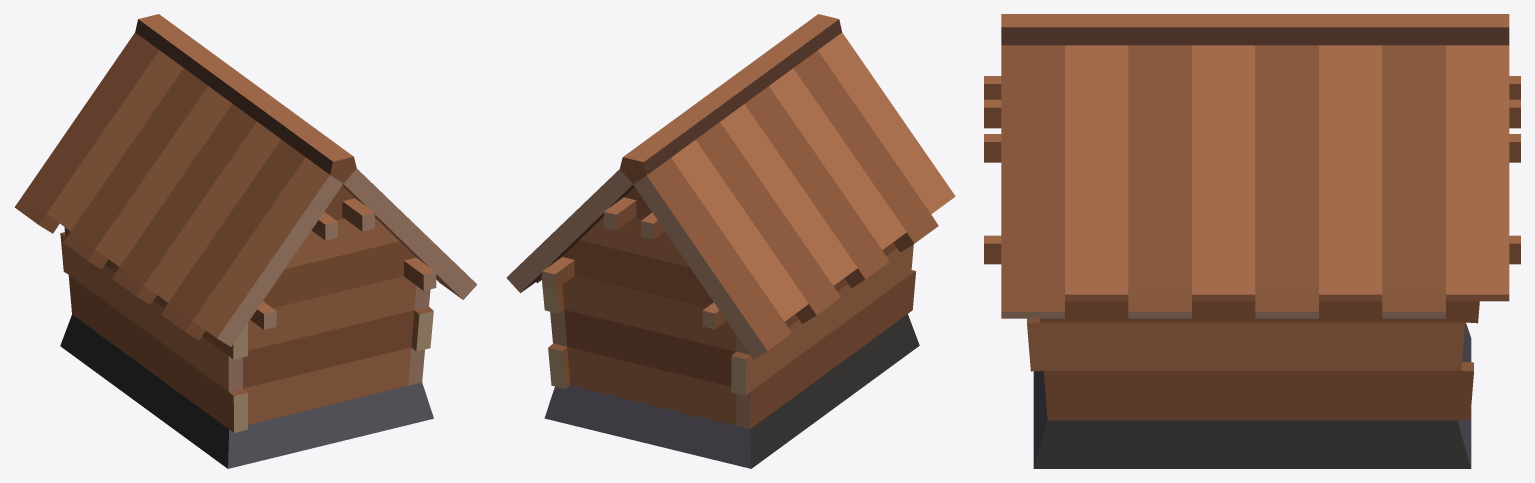
The model's file is TB_Bd_WoodHouse.FBX.
The picture shows the model from 3 angles, left to right: view 1: azimuth 30°, elevation 25°; view 2: azimuth 150°, elevation 25°; view 3: azimuth 270°, elevation 25°; orthographic projection. The views are drawn at different scales.
Parts seen in each view (by area): view 1: TB_Bd_WoodHouse; view 2: TB_Bd_WoodHouse; view 3: TB_Bd_WoodHouse.
Part boxes in pixels (left/top/right/bottom): TB_Bd_WoodHouse: left=14, top=14, right=477, bottom=468; TB_Bd_WoodHouse: left=506, top=14, right=955, bottom=468; TB_Bd_WoodHouse: left=984, top=14, right=1520, bottom=468.
Size of the model in its own units: 4.45 by 4.66 by 5.92.
